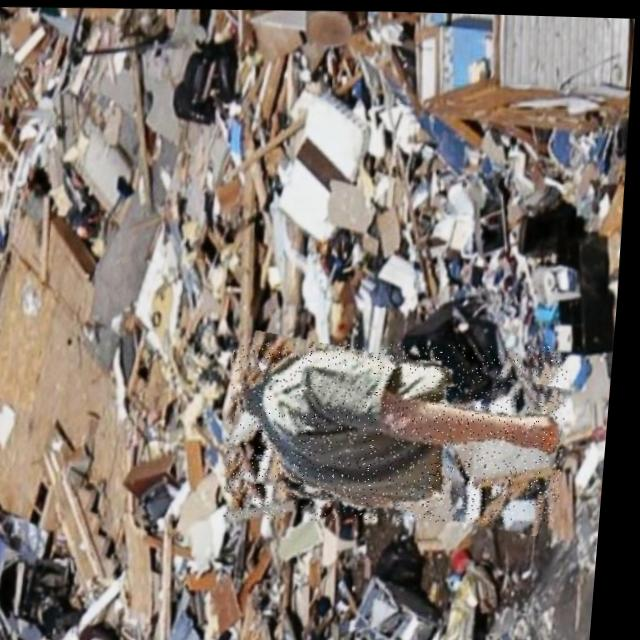Person in Rubble: (227, 333, 577, 524)
